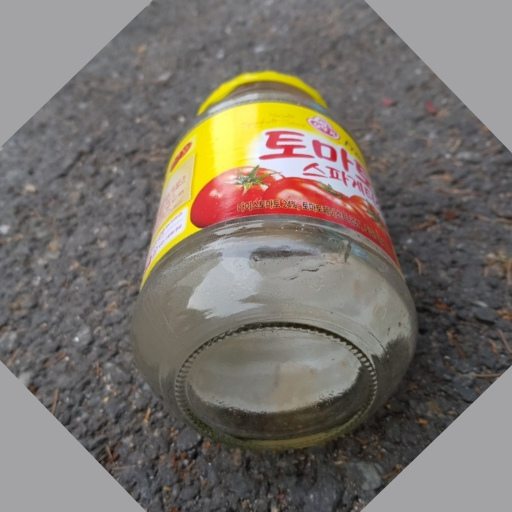Glass_5: (134, 64, 419, 442)
